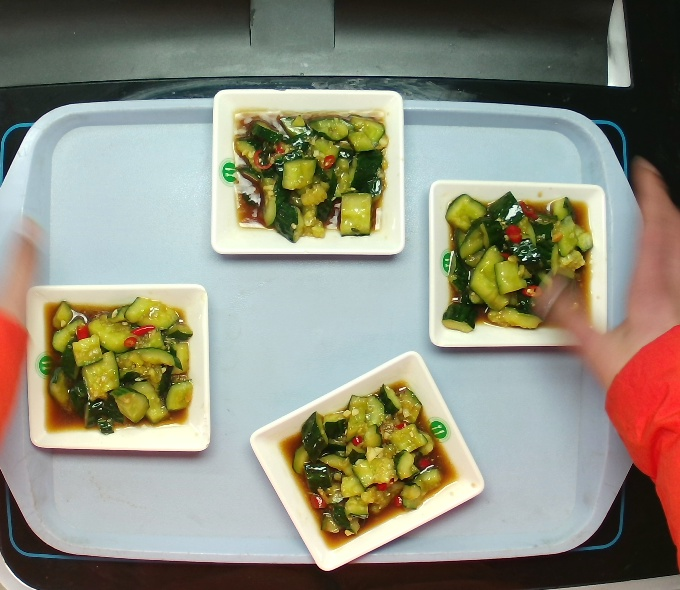wcq-LiangBanHuangGua: (280, 386, 461, 535), (427, 183, 594, 344), (35, 294, 200, 437), (225, 104, 389, 242)
